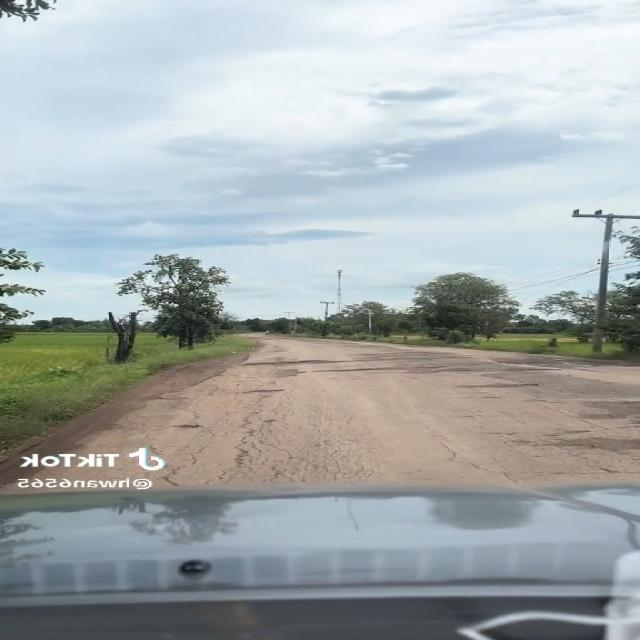Poth-hole: (200, 443, 467, 488)
